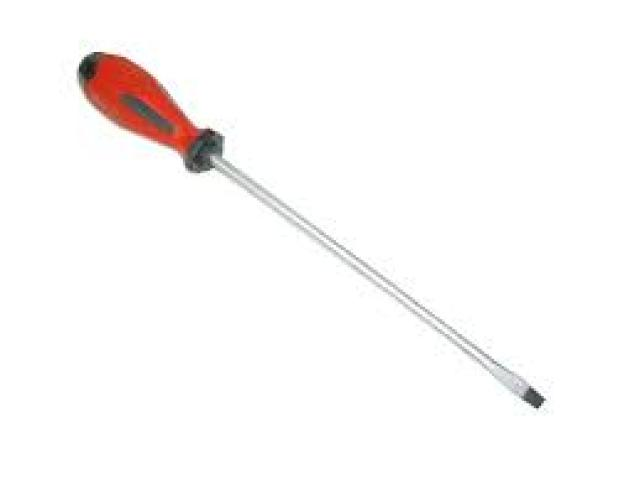Screwdriver: (81, 53, 545, 407)
